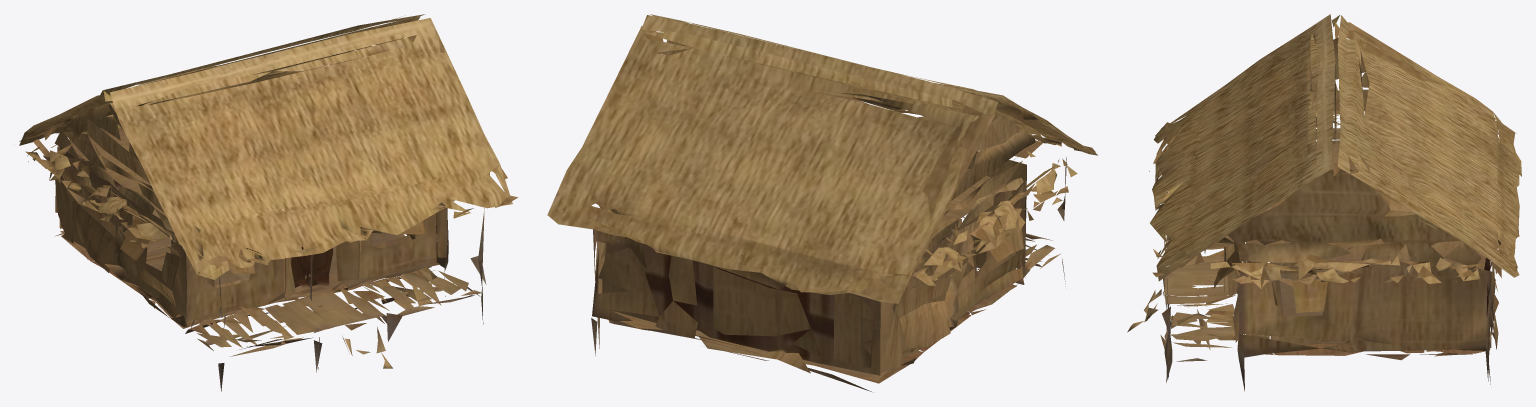
The model's file is nha-la.glb.
3 views of the same model, side by side, from view 1: azimuth 30°, elevation 25°; view 2: azimuth 150°, elevation 25°; view 3: azimuth 270°, elevation 25° (orthographic). The views are drawn at different scales.
Visible parts, largest first — view 1: Nha_LaDua_WEB; view 2: Nha_LaDua_WEB; view 3: Nha_LaDua_WEB.
Boxes of the visible parts, left/top/right/bottom form: Nha_LaDua_WEB: left=19, top=14, right=518, bottom=391; Nha_LaDua_WEB: left=547, top=14, right=1097, bottom=391; Nha_LaDua_WEB: left=1127, top=14, right=1521, bottom=391.
Bounding box in the file's own units: 6.72 × 4.61 × 6.81.
1 material, 1 textured.
